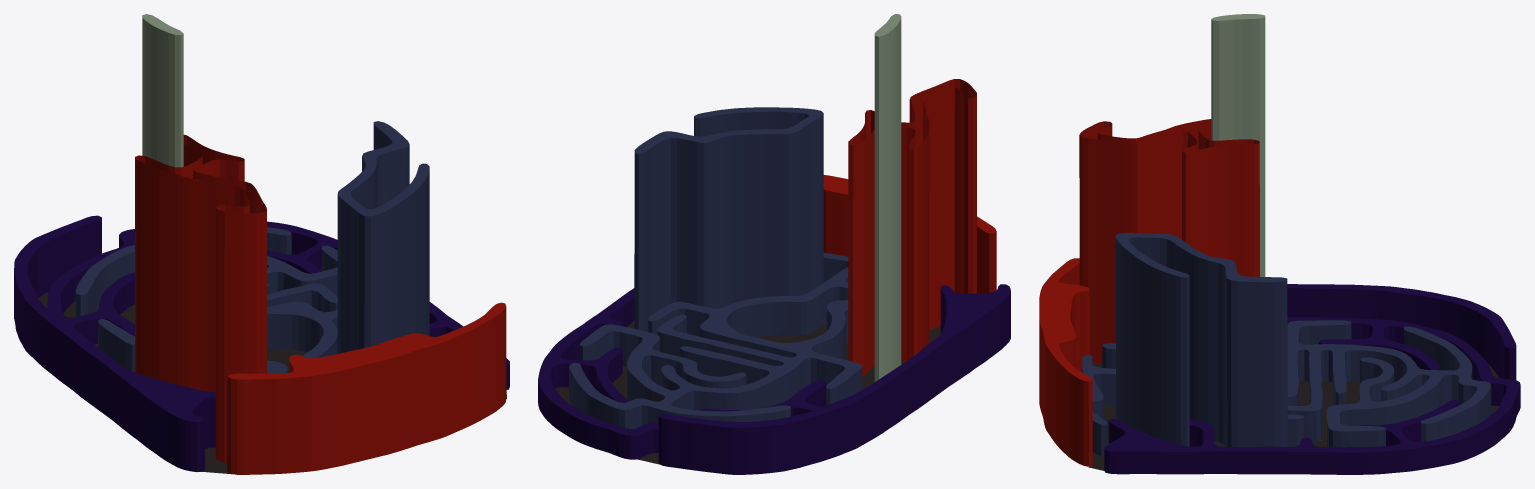
3 renders of one model, left to right at view 1: azimuth 30°, elevation 25°; view 2: azimuth 150°, elevation 25°; view 3: azimuth 270°, elevation 25°, orthographic. The views are drawn at different scales.
Parts seen in each view (by area): view 1: North_Edge_Building, Second_Tallest_Building, East_Edge_Wall, big_shorter_building, Center, Outer_Center, Tallest_building, Ground; view 2: big_shorter_building, Center, Second_Tallest_Building, East_Edge_Wall, Tallest_building, Outer_Center, North_Edge_Building, Ground; view 3: big_shorter_building, Second_Tallest_Building, Center, Outer_Center, North_Edge_Building, East_Edge_Wall, Tallest_building, Ground.
Part boxes in pixels (x1=…): North_Edge_Building: x1=227, y1=302, x2=506, y2=474; Second_Tallest_Building: x1=135, y1=134, x2=266, y2=462; East_Edge_Wall: x1=14, y1=215, x2=215, y2=471; big_shorter_building: x1=337, y1=121, x2=429, y2=353; Center: x1=75, y1=227, x2=337, y2=373; Outer_Center: x1=47, y1=221, x2=509, y2=389; Tallest_building: x1=142, y1=14, x2=183, y2=167; Ground: x1=39, y1=292, x2=506, y2=474; big_shorter_building: x1=634, y1=107, x2=823, y2=331; Center: x1=569, y1=252, x2=862, y2=428; Second_Tallest_Building: x1=848, y1=79, x2=976, y2=376; East_Edge_Wall: x1=658, y1=284, x2=1010, y2=474; Tallest_building: x1=874, y1=14, x2=901, y2=381; Outer_Center: x1=538, y1=288, x2=825, y2=459; North_Edge_Building: x1=823, y1=175, x2=996, y2=293; Ground: x1=555, y1=321, x2=940, y2=464; big_shorter_building: x1=1115, y1=233, x2=1287, y2=447; Second_Tallest_Building: x1=1079, y1=119, x2=1259, y2=363; Center: x1=1082, y1=320, x2=1491, y2=455; Outer_Center: x1=1104, y1=317, x2=1520, y2=474; North_Edge_Building: x1=1039, y1=258, x2=1092, y2=466; East_Edge_Wall: x1=1287, y1=284, x2=1516, y2=379; Tallest_building: x1=1211, y1=14, x2=1265, y2=276; Ground: x1=1088, y1=363, x2=1498, y2=470.
Size of the model in its own units: 7049 by 7501 by 9738.
